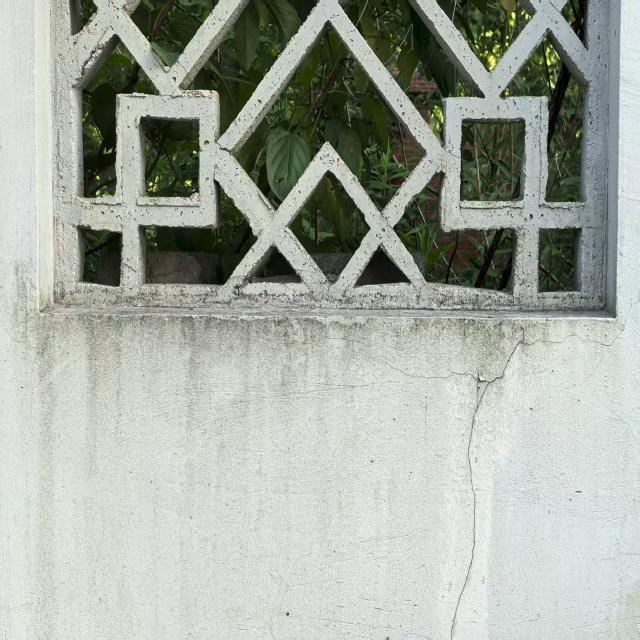crack: (358, 292, 638, 638)
mildew: (17, 255, 614, 388)
